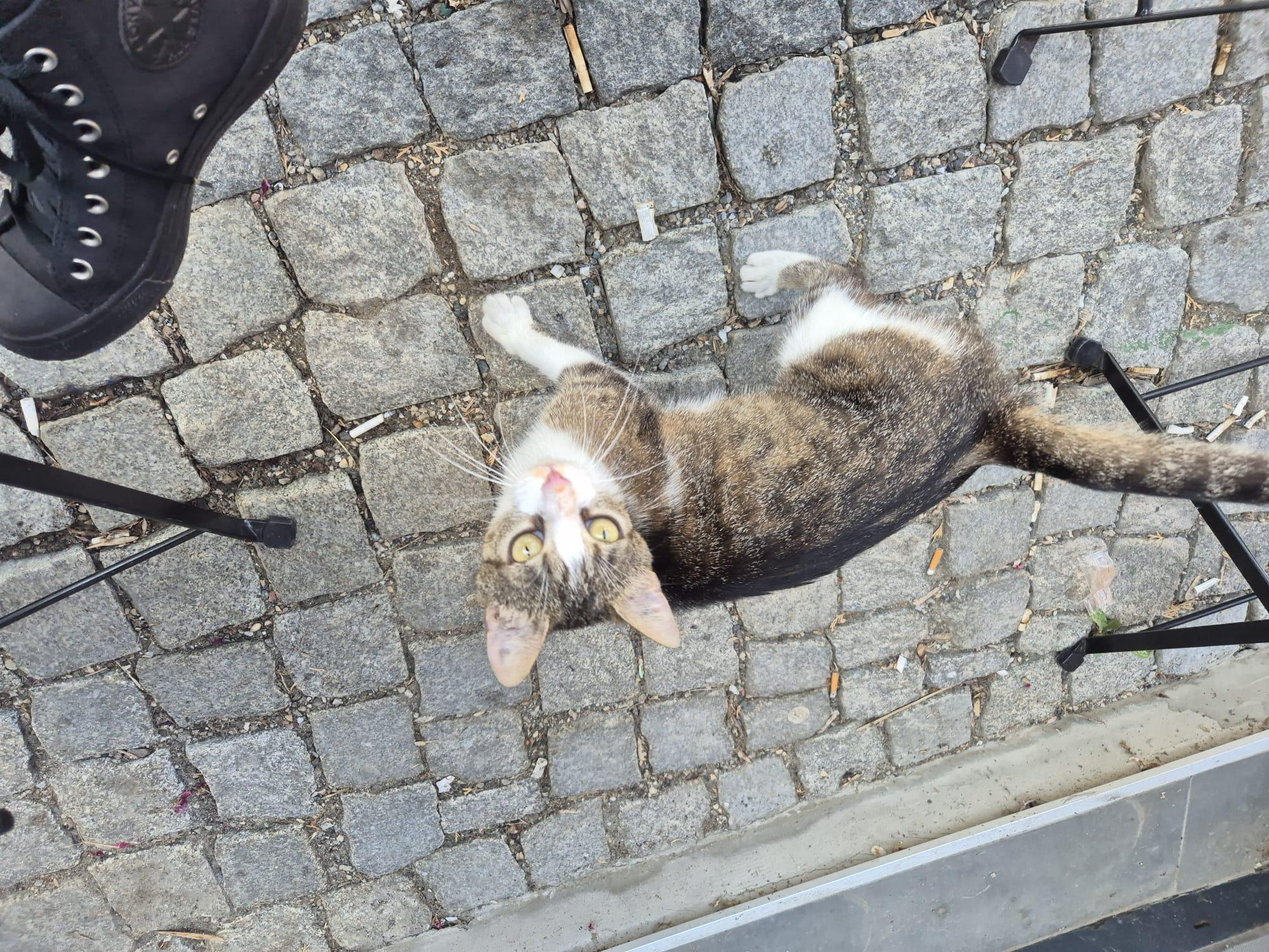macka: (471, 248, 1268, 686)
